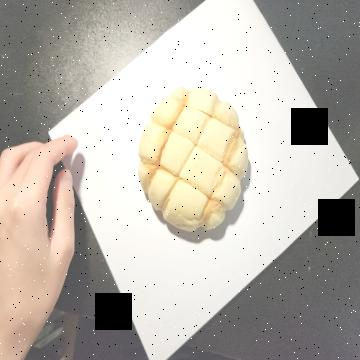melon_bread: (138, 89, 250, 233)
